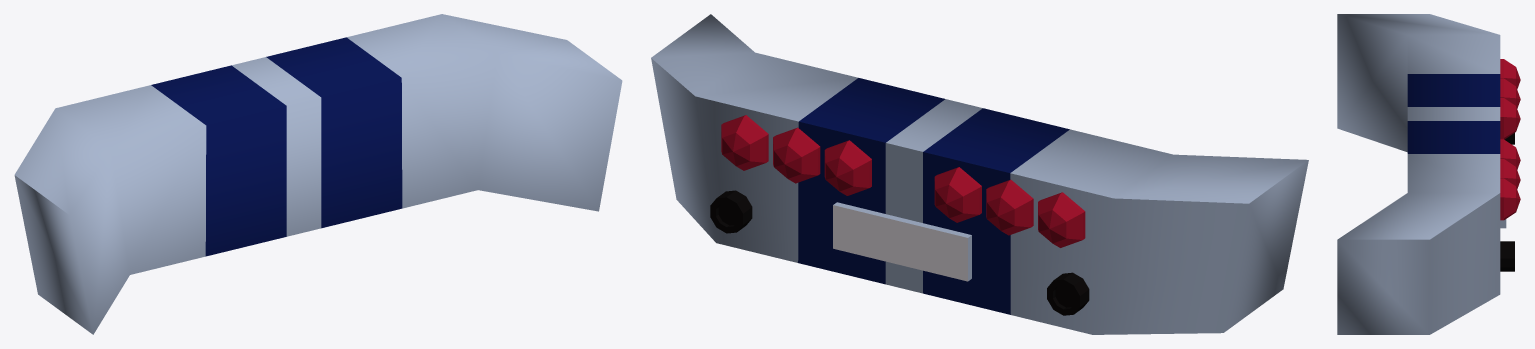
File: bumper1.fbx
The picture shows the model from 3 angles, left to right: view 1: azimuth 30°, elevation 25°; view 2: azimuth 150°, elevation 25°; view 3: azimuth 270°, elevation 25°; orthographic projection. The views are drawn at different scales.
Parts seen in each view (by area): view 1: Bumper.001; view 2: Bumper.001; view 3: Bumper.001.
Part boxes in pixels (bbox=[...]): Bumper.001: bbox=[14, 14, 622, 334]; Bumper.001: bbox=[651, 14, 1308, 334]; Bumper.001: bbox=[1337, 14, 1520, 334].
Size of the model in its own units: 2.43 by 0.5915 by 0.835.
